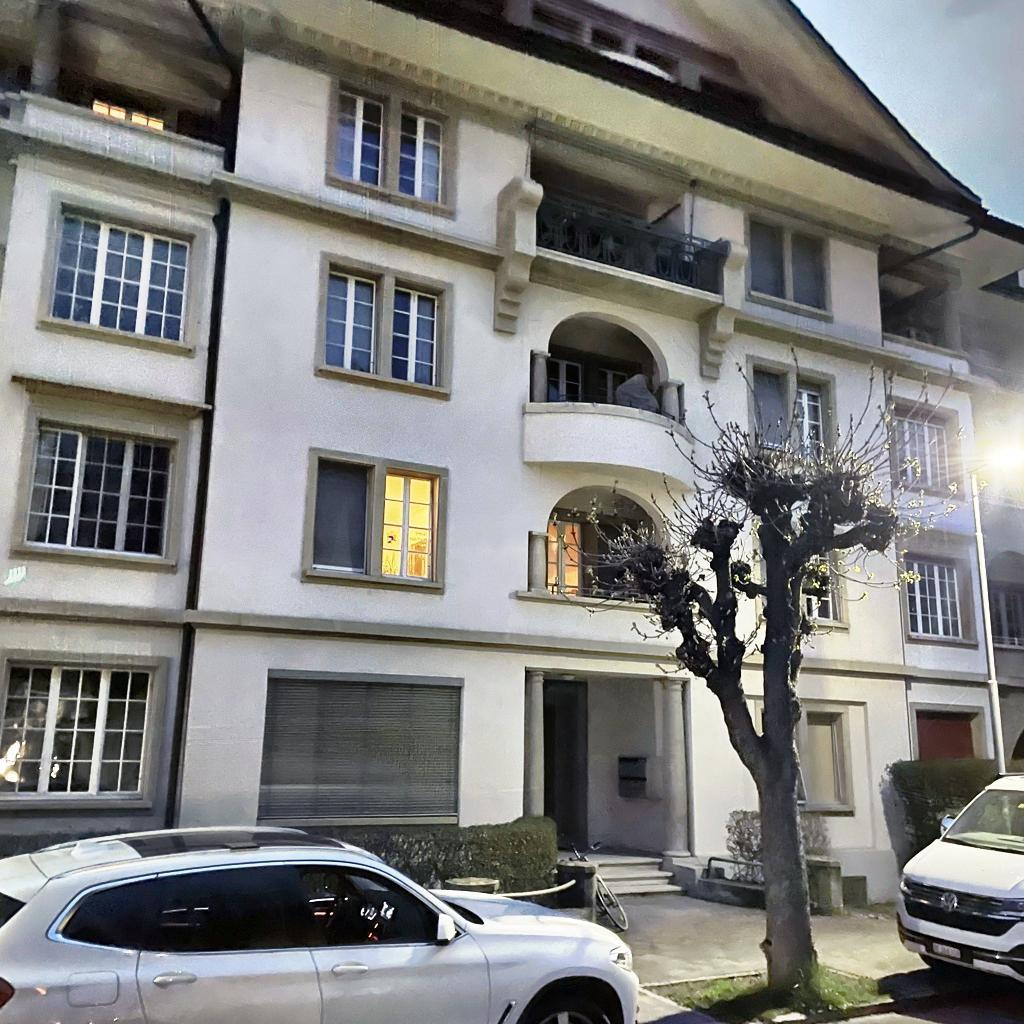balcony-fence: (536, 189, 729, 295), (546, 392, 676, 421), (546, 582, 684, 605)
car: (0, 824, 641, 1024), (894, 771, 1024, 984)
street: (808, 981, 1024, 1024)
vegetation: (551, 342, 989, 992), (304, 815, 561, 909), (877, 754, 1024, 873), (0, 830, 131, 855)
window: (258, 680, 461, 818), (20, 417, 178, 560), (0, 659, 154, 801), (49, 210, 191, 341), (760, 709, 846, 806), (749, 214, 827, 310), (312, 458, 367, 574), (324, 270, 377, 374), (384, 473, 432, 581), (903, 557, 964, 640), (334, 88, 384, 188), (891, 414, 952, 494), (391, 284, 438, 386), (400, 111, 444, 202), (755, 369, 788, 450), (91, 98, 165, 130), (797, 388, 825, 466), (989, 588, 1024, 637), (547, 356, 582, 402), (599, 367, 628, 406)
